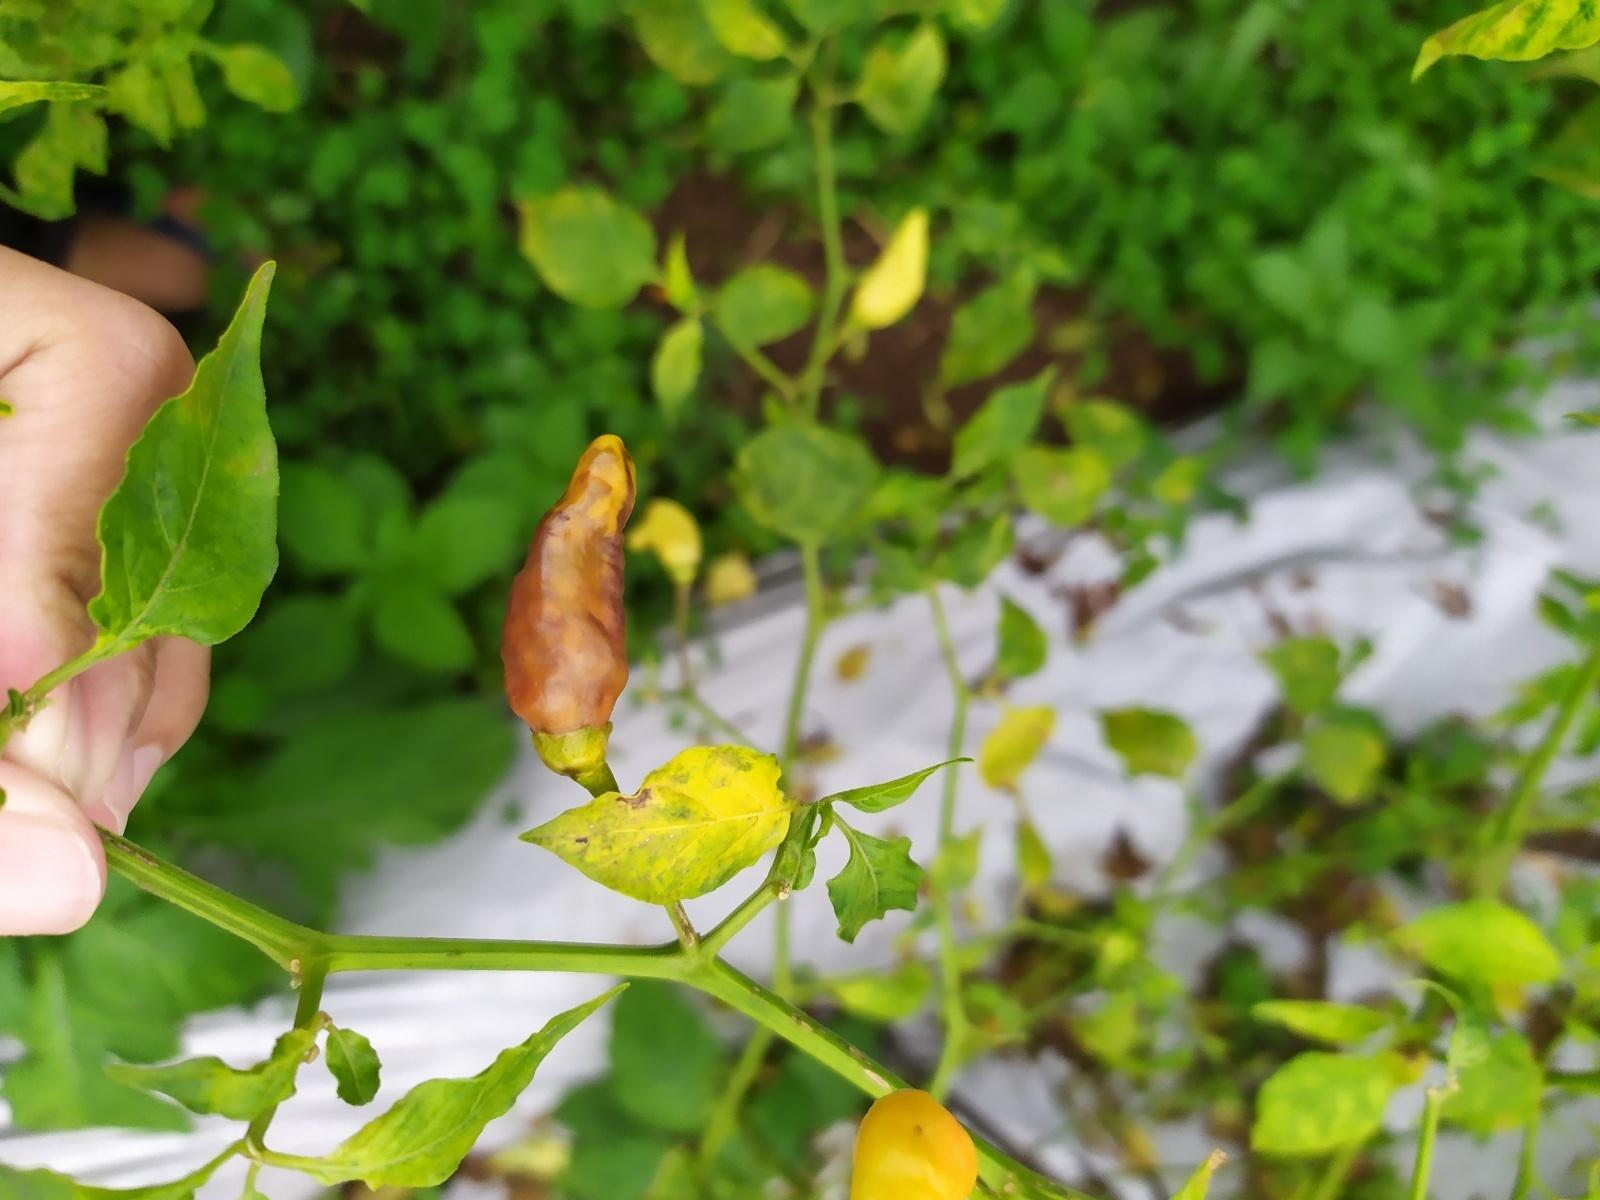cabai_normal: (854, 205, 930, 332)
lalat_buah: (496, 432, 637, 737)
